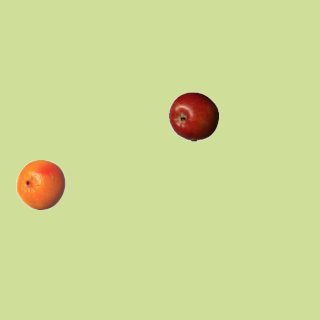Apple Braeburn: (168, 91, 218, 141)
Grapefruit Pink: (15, 159, 65, 209)
